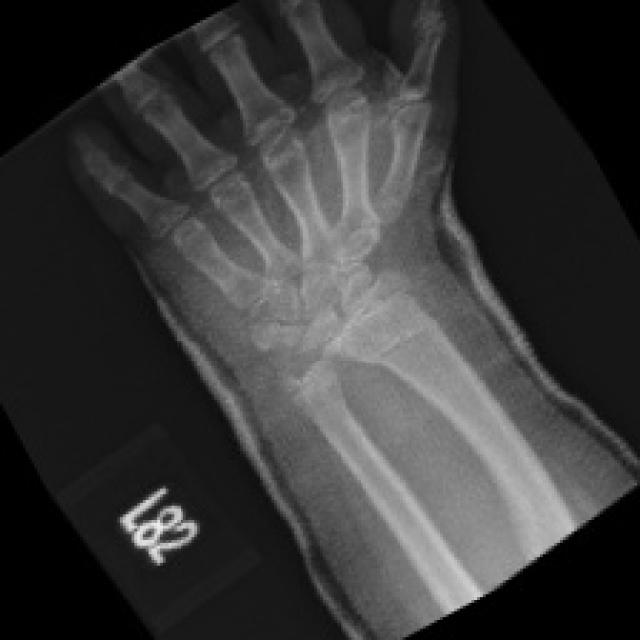fracture: (355, 320, 447, 374)
